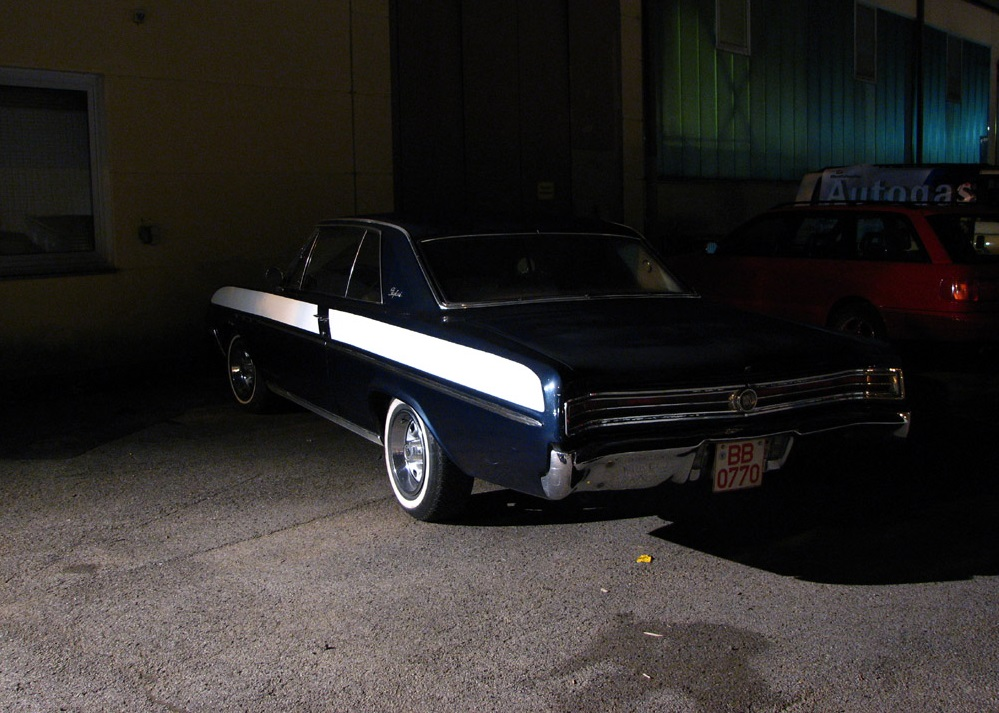car: (674, 191, 995, 358)
